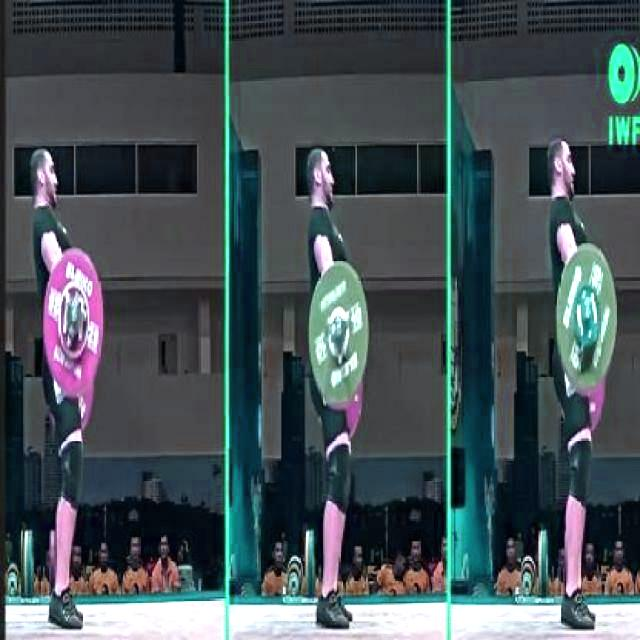barbell: (40, 242, 111, 402), (302, 257, 375, 410), (552, 235, 620, 399)
